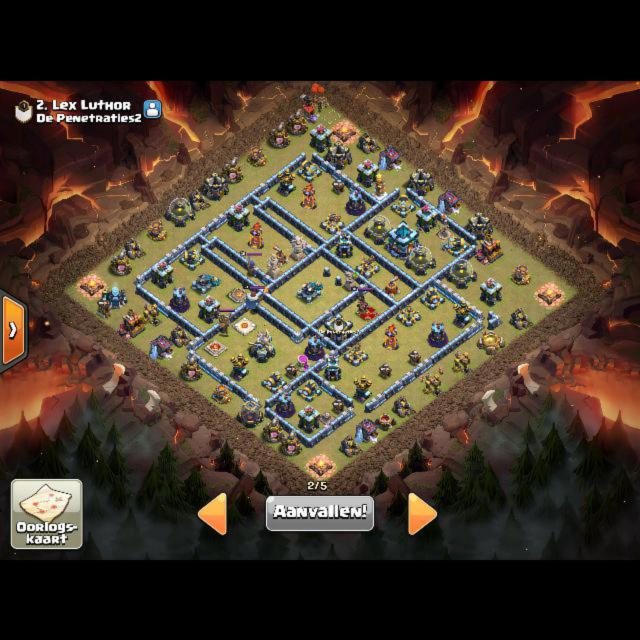AD: (229, 352, 249, 381), (352, 374, 372, 403), (276, 167, 296, 196), (453, 299, 472, 328)
AirSweeper: (271, 244, 289, 267), (382, 275, 400, 297)
BombTower: (324, 354, 340, 381), (336, 231, 352, 258)
Canon: (261, 370, 287, 393), (296, 379, 322, 402), (296, 159, 322, 182), (390, 194, 416, 217), (419, 286, 445, 309), (178, 248, 204, 270), (443, 235, 468, 257)
ClanCastle: (324, 312, 353, 346)
Eagle: (249, 328, 276, 362)
Inferno: (382, 324, 398, 350), (247, 222, 263, 248), (300, 184, 316, 209)
KingPad: (204, 339, 226, 356)
Mortar: (211, 383, 231, 404), (246, 145, 266, 166), (510, 264, 530, 285), (147, 220, 167, 240)
QueenPad: (356, 304, 380, 321)
RcPad: (229, 287, 248, 301)
Scattershot: (192, 272, 221, 295), (297, 279, 323, 303)
TH13: (387, 219, 419, 259)
WardenPad: (234, 318, 255, 333)
WizzTower: (428, 320, 447, 346), (276, 391, 295, 417), (346, 189, 365, 215), (170, 286, 189, 312), (305, 334, 323, 360)
Xbow: (344, 341, 369, 366), (354, 254, 380, 278), (319, 211, 345, 234), (395, 304, 421, 326)
